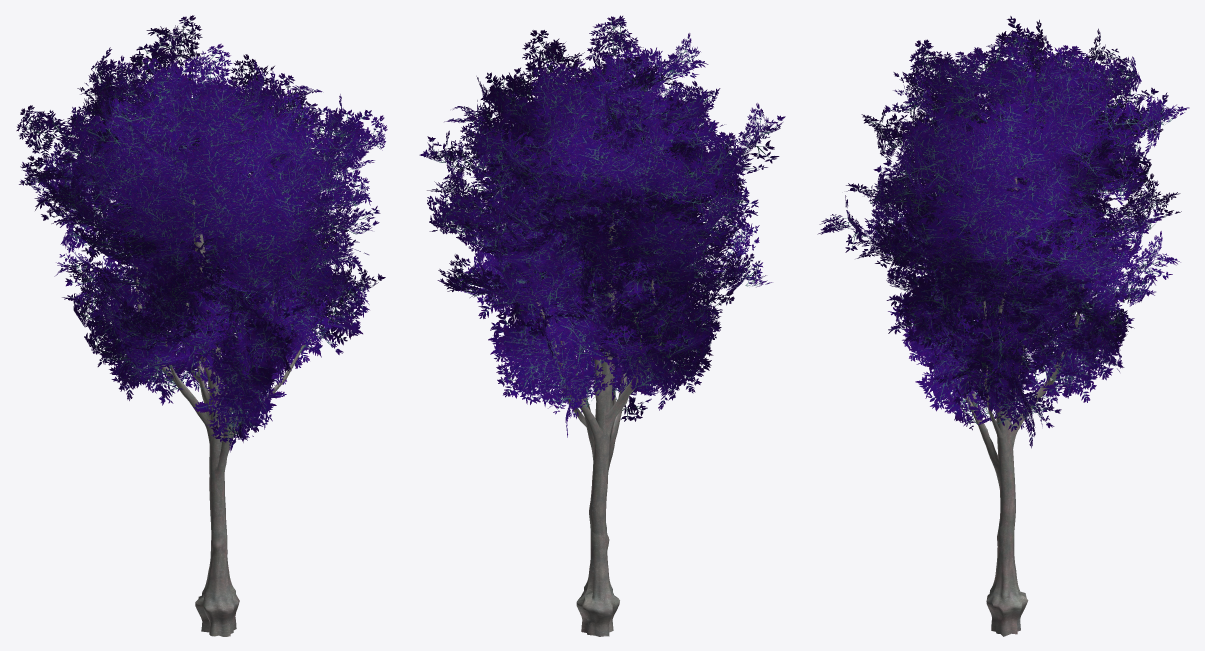
The picture shows the model from 3 angles, left to right: view 1: azimuth 30°, elevation 25°; view 2: azimuth 150°, elevation 25°; view 3: azimuth 270°, elevation 25°; orthographic projection.
Parts seen in each view (by area): view 1: SM_GF_Ash_Tree_01_LOD0; view 2: SM_GF_Ash_Tree_01_LOD0; view 3: SM_GF_Ash_Tree_01_LOD0.
Boxes of the visible parts, bbox=[...] form: SM_GF_Ash_Tree_01_LOD0: bbox=[16, 15, 387, 636]; SM_GF_Ash_Tree_01_LOD0: bbox=[419, 15, 785, 636]; SM_GF_Ash_Tree_01_LOD0: bbox=[817, 16, 1189, 636].
Bounding box in the file's own units: 11.46 × 19.24 × 11.33.
Materials: 2 (2 with a texture image).
